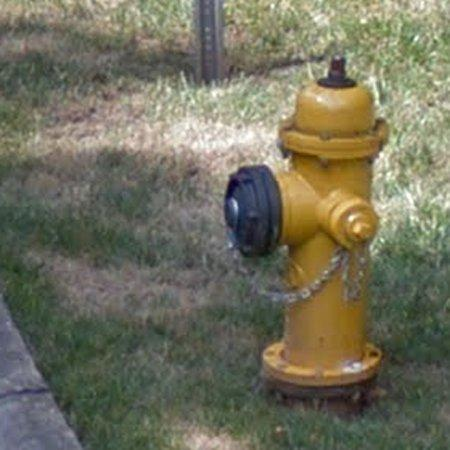a fire hydrant: (225, 56, 389, 397)
